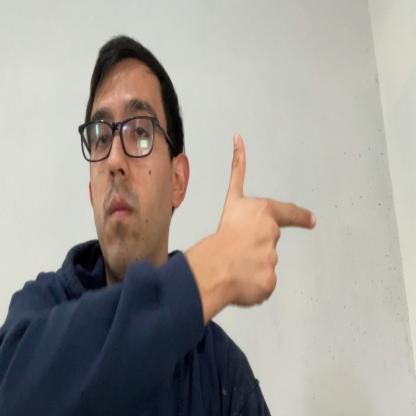G: (218, 132, 317, 308)
